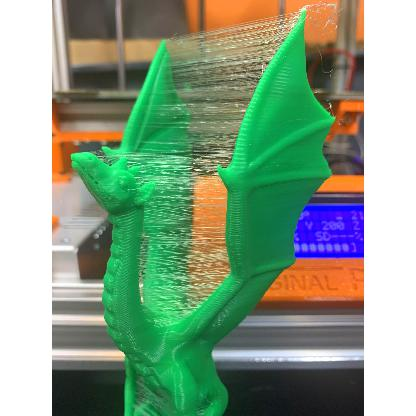fail: (138, 154, 230, 308), (165, 20, 297, 110)
